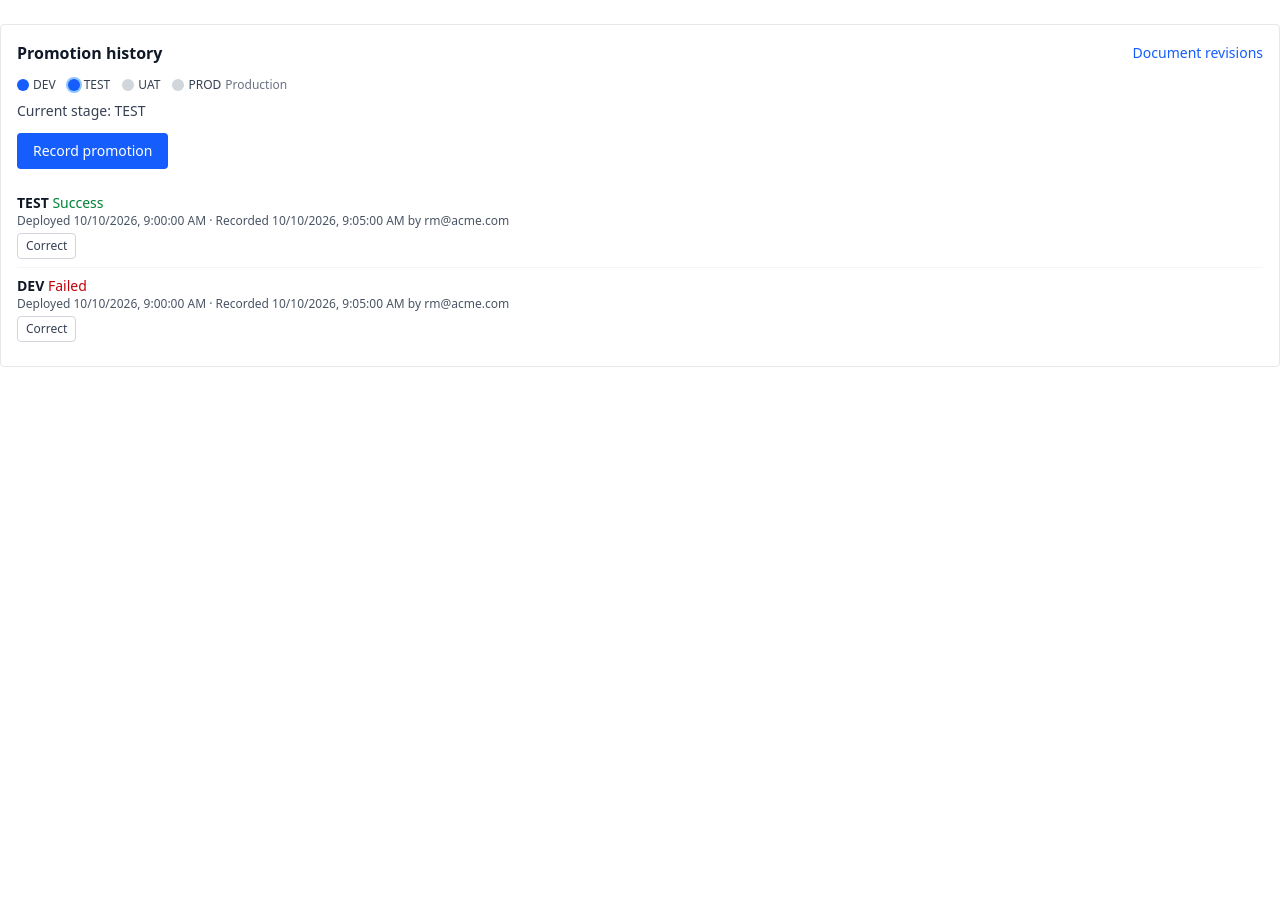
Test: PromotionSection › preselects the next stage and switches to the current stage for a rollback
Click the button "Record promotion" at (93, 151), box [17,133,168,169]
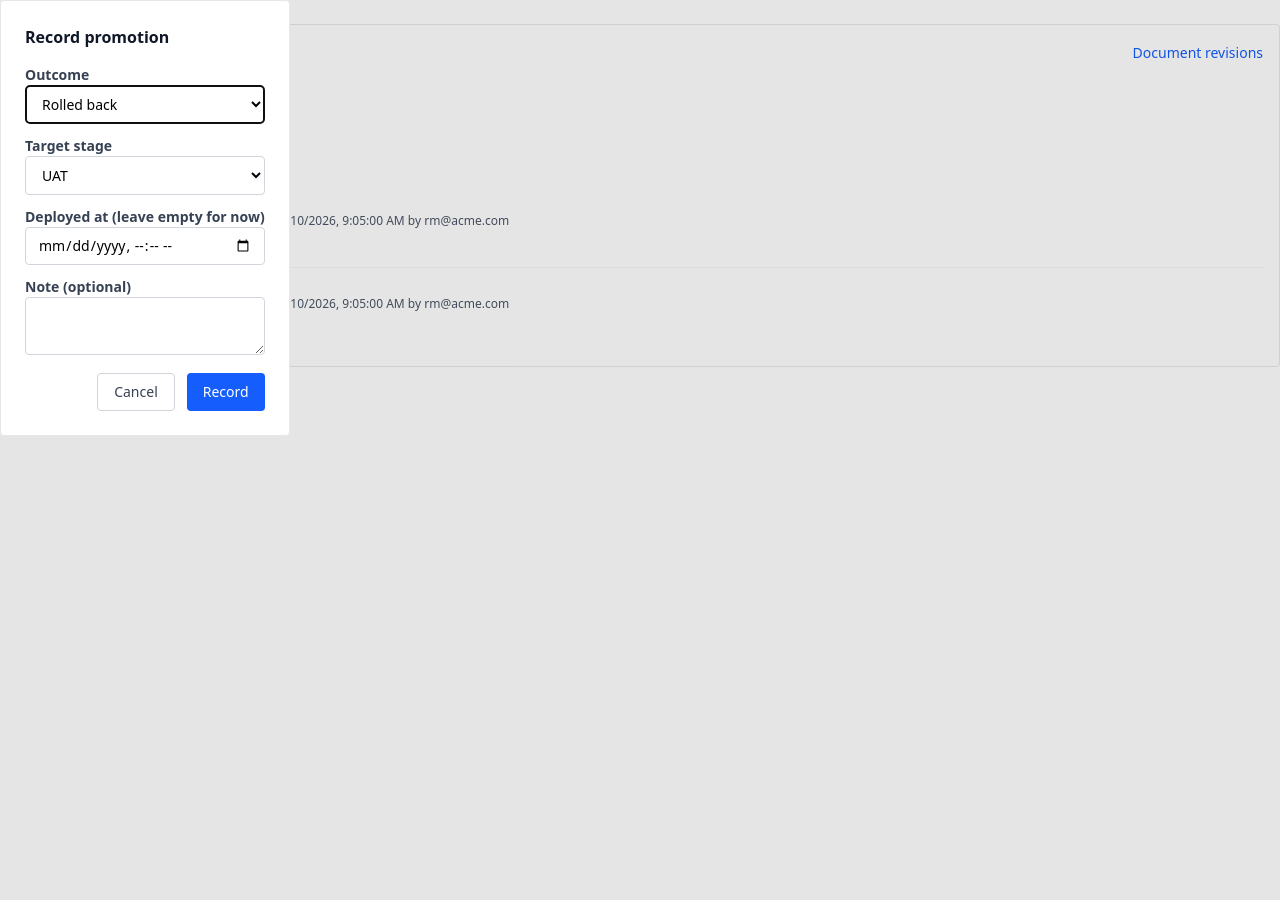
Expected: the dropdown labelled "Target stage" shows "UAT", [25,156,265,195]
Select "Rolled back" in the dropdown labelled "Outcome" at (145, 104), box [25,85,265,124]
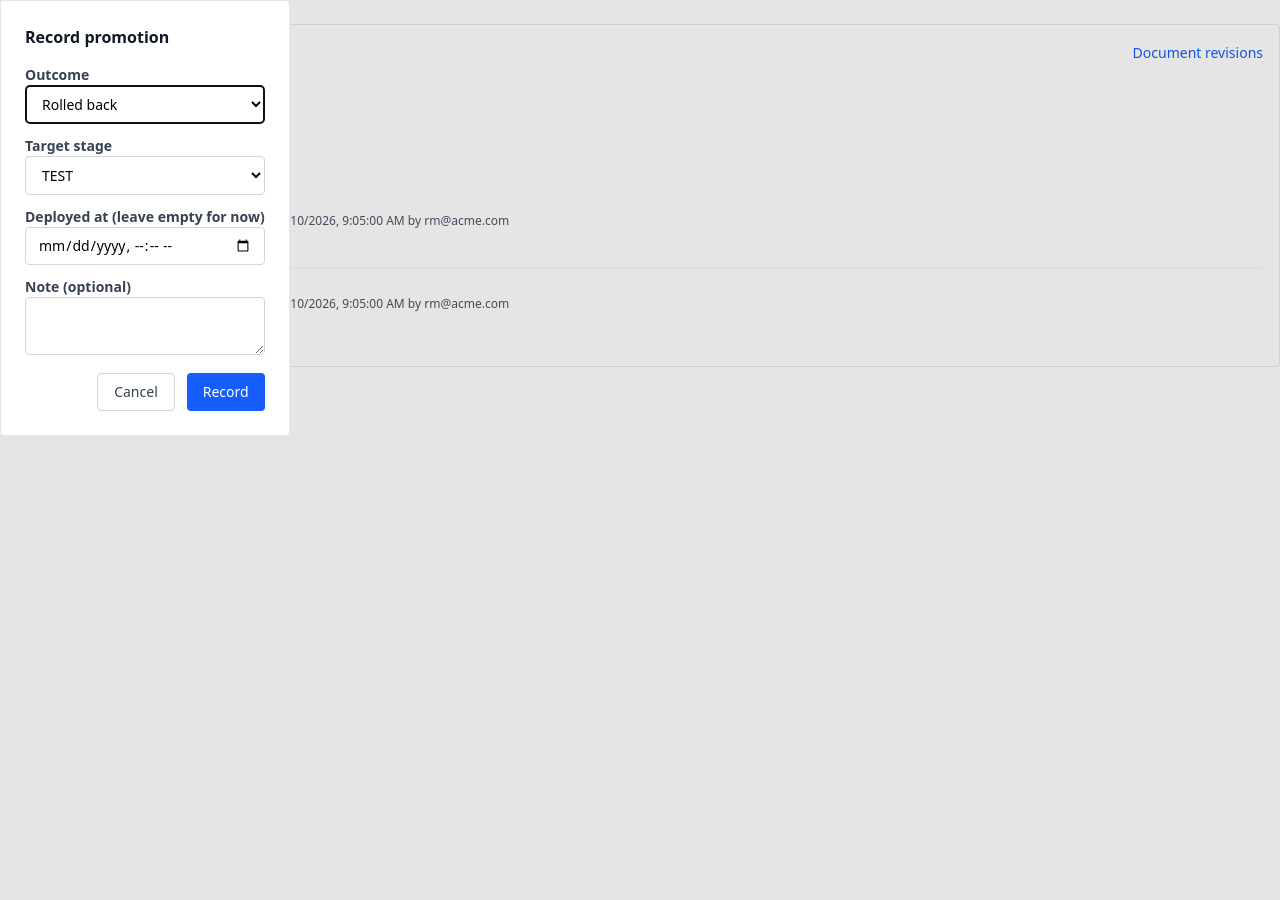
Expected: the dropdown labelled "Target stage" shows "TEST", [25,156,265,195]
